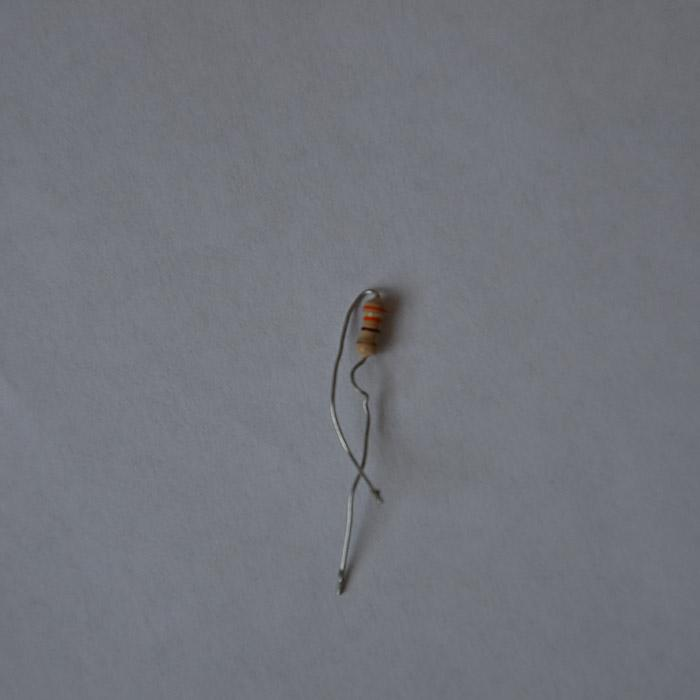resistor: (355, 296, 386, 358)
